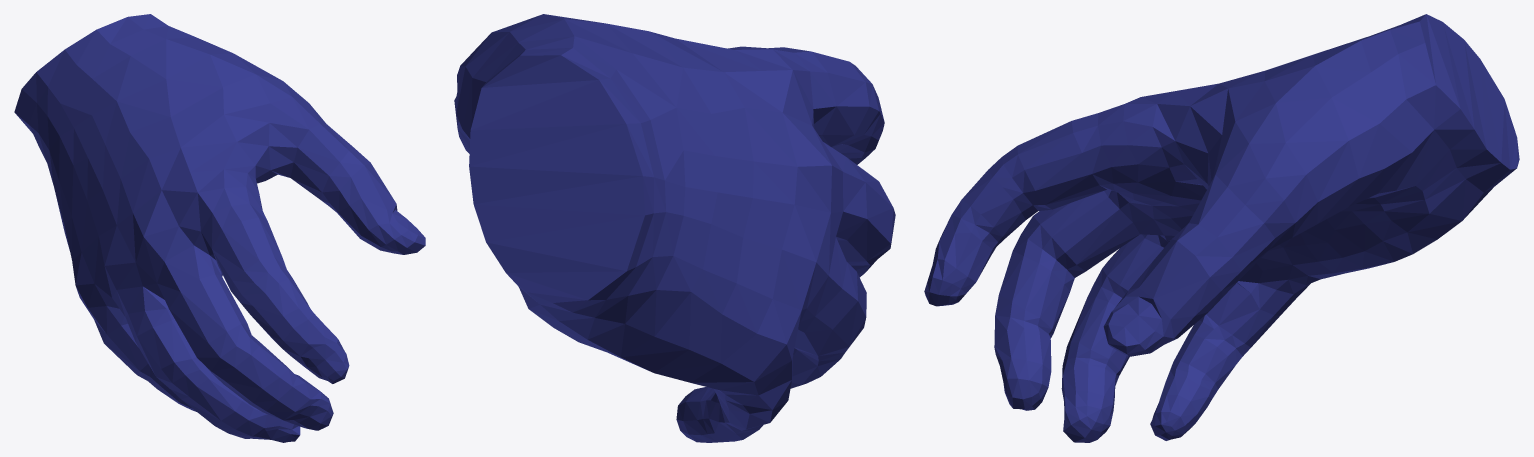
3 views of the same model, side by side, from view 1: azimuth 30°, elevation 25°; view 2: azimuth 150°, elevation 25°; view 3: azimuth 270°, elevation 25° (orthographic). The views are drawn at different scales.
Bounding box in the file's own units: 0.1142 × 0.1299 × 0.1703.
